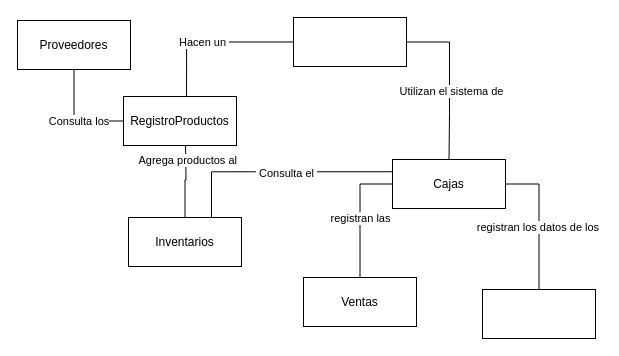
Some shapes in this 619 by 356 pixel diagram are drawn without their labels. The shapes that lost their labels are listed below. From the top down, each one's box as (x1, y1, x2, y2) in pixels, then its label:
(292, 16, 406, 66): Colaboradores
(482, 288, 596, 338): Clientes
